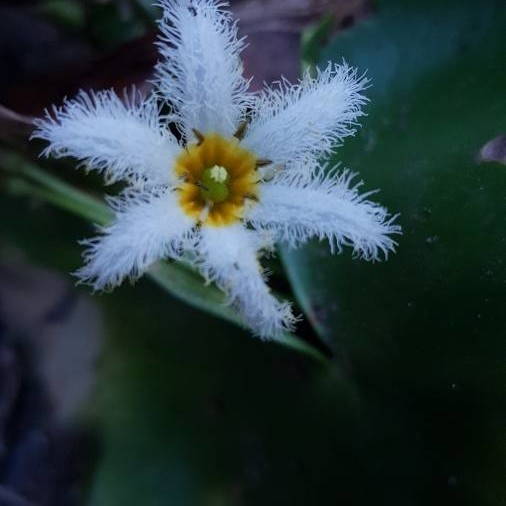obstacle: (32, 16, 387, 364)
